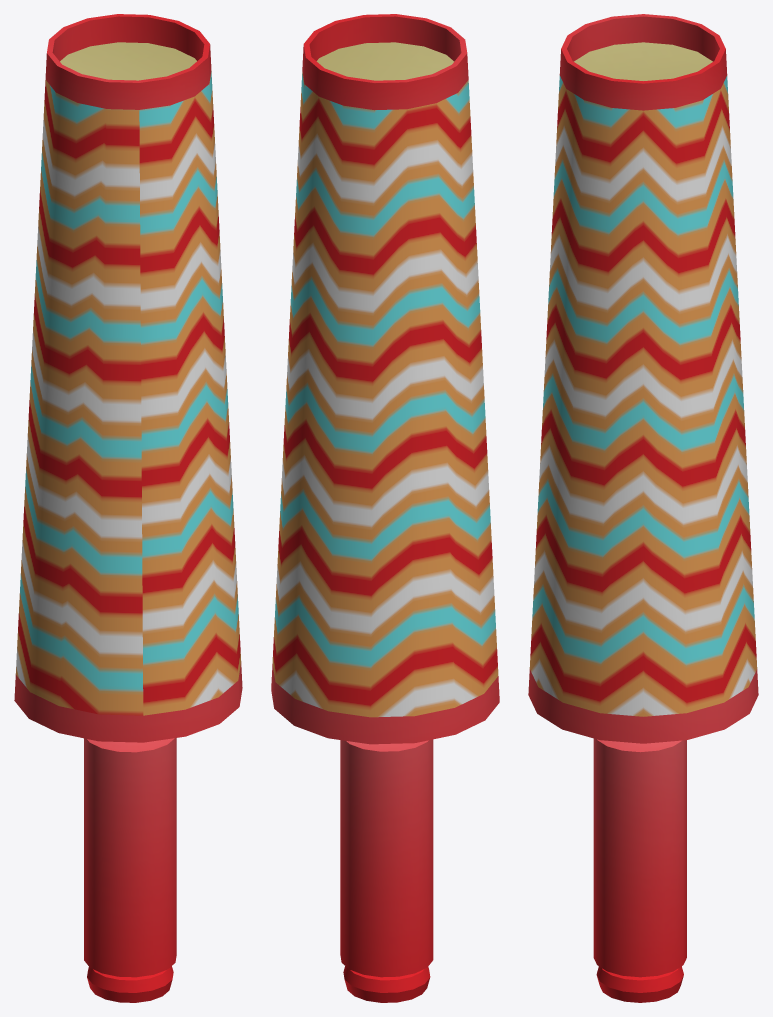
The model's file is floor lamp.FBX.
3 renders of one model, left to right at view 1: azimuth 30°, elevation 25°; view 2: azimuth 150°, elevation 25°; view 3: azimuth 270°, elevation 25°, orthographic.
Parts seen in each view (by area): view 1: cylindrical lampshade, cylindrical lamp; view 2: cylindrical lampshade, cylindrical lamp; view 3: cylindrical lampshade, cylindrical lamp.
Part boxes in pixels (x1,y1,x2,y2): cylindrical lampshade: (14,14,242,742); cylindrical lamp: (84,738,176,1002); cylindrical lampshade: (271,14,499,744); cylindrical lamp: (340,739,433,1002); cylindrical lampshade: (528,14,758,743); cylindrical lamp: (593,738,686,1002).
Bounding box in the file's own units: 27.34 × 123 × 27.34.
Materials: 1 (1 with a texture image).
